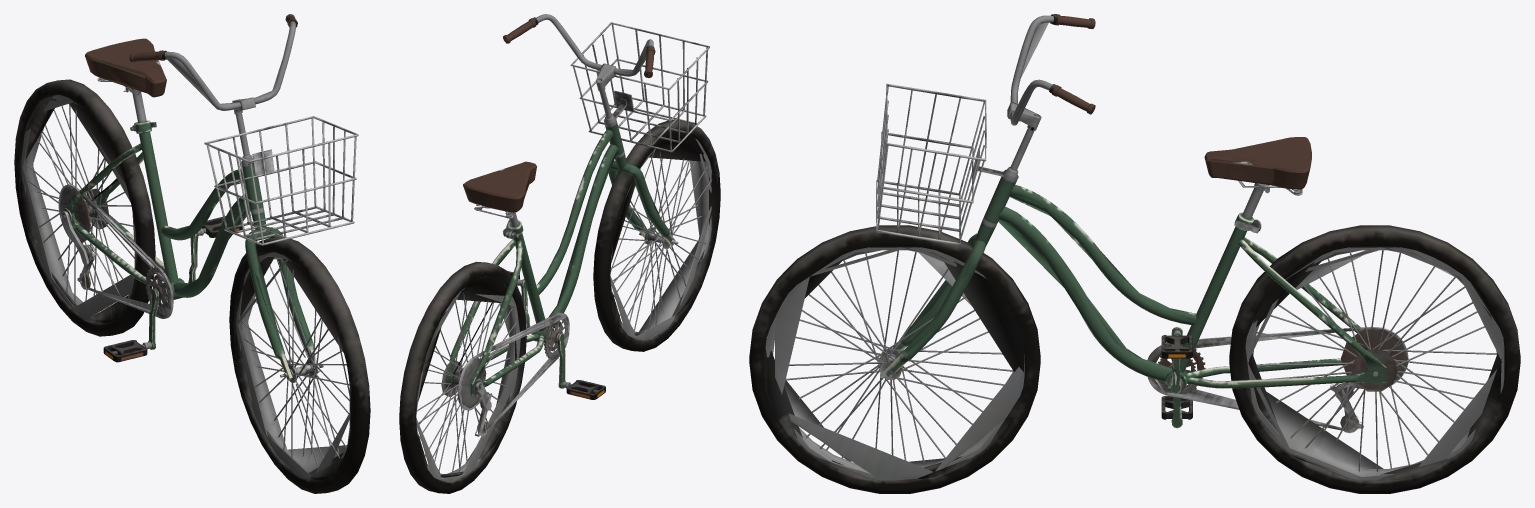
The model's file is bicycle.glb.
3 views of the same model, side by side, from view 1: azimuth 30°, elevation 25°; view 2: azimuth 150°, elevation 25°; view 3: azimuth 270°, elevation 25° (orthographic). The views are drawn at different scales.
Visible parts, largest first — view 1: kit0, kit1, far; view 2: kit0, kit1, far; view 3: kit0, kit1, far.
Part boxes in pixels (x1=…): kit0: x1=14, y1=14, x2=370, y2=493; kit1: x1=14, y1=14, x2=370, y2=488; far: x1=20, y1=45, x2=351, y2=480; kit0: x1=399, y1=14, x2=720, y2=493; kit1: x1=399, y1=18, x2=720, y2=489; far: x1=416, y1=54, x2=717, y2=482; kit0: x1=749, y1=14, x2=1520, y2=493; kit1: x1=749, y1=15, x2=1520, y2=489; far: x1=767, y1=22, x2=1503, y2=480.
Bounding box in the file's own units: 0.4856 × 1.11 × 1.75.
Materials: 1 (1 with a texture image).
